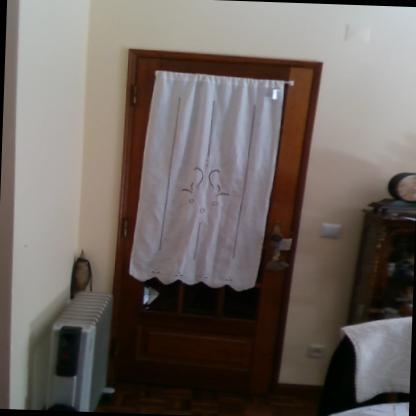closed: (86, 33, 328, 408)
